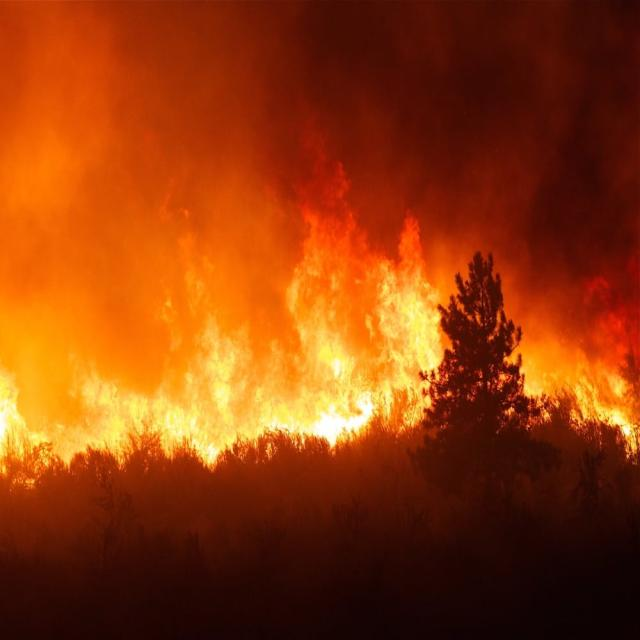Fire: (12, 225, 453, 500), (494, 330, 637, 460)
Smoke: (292, 25, 623, 345)
